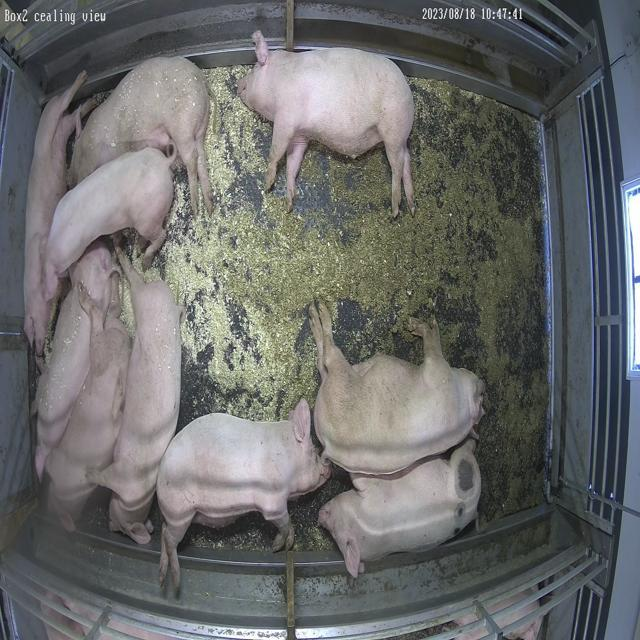Dirt: (232, 78, 550, 522)
Pig: (238, 31, 416, 218), (157, 401, 331, 590), (309, 303, 485, 476), (96, 247, 182, 545), (319, 440, 482, 578), (46, 273, 130, 532), (70, 58, 212, 210), (46, 147, 174, 298), (23, 71, 86, 356), (35, 284, 91, 452)
